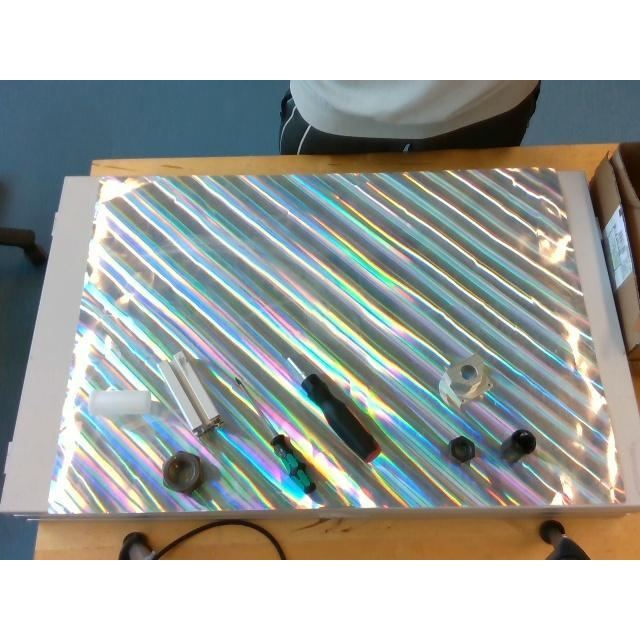M20: (449, 436, 475, 464)
M30: (162, 451, 202, 493)
S40_40_G: (158, 352, 222, 436)
Screwdriver: (233, 378, 314, 494)
Spacer: (89, 390, 151, 416)
